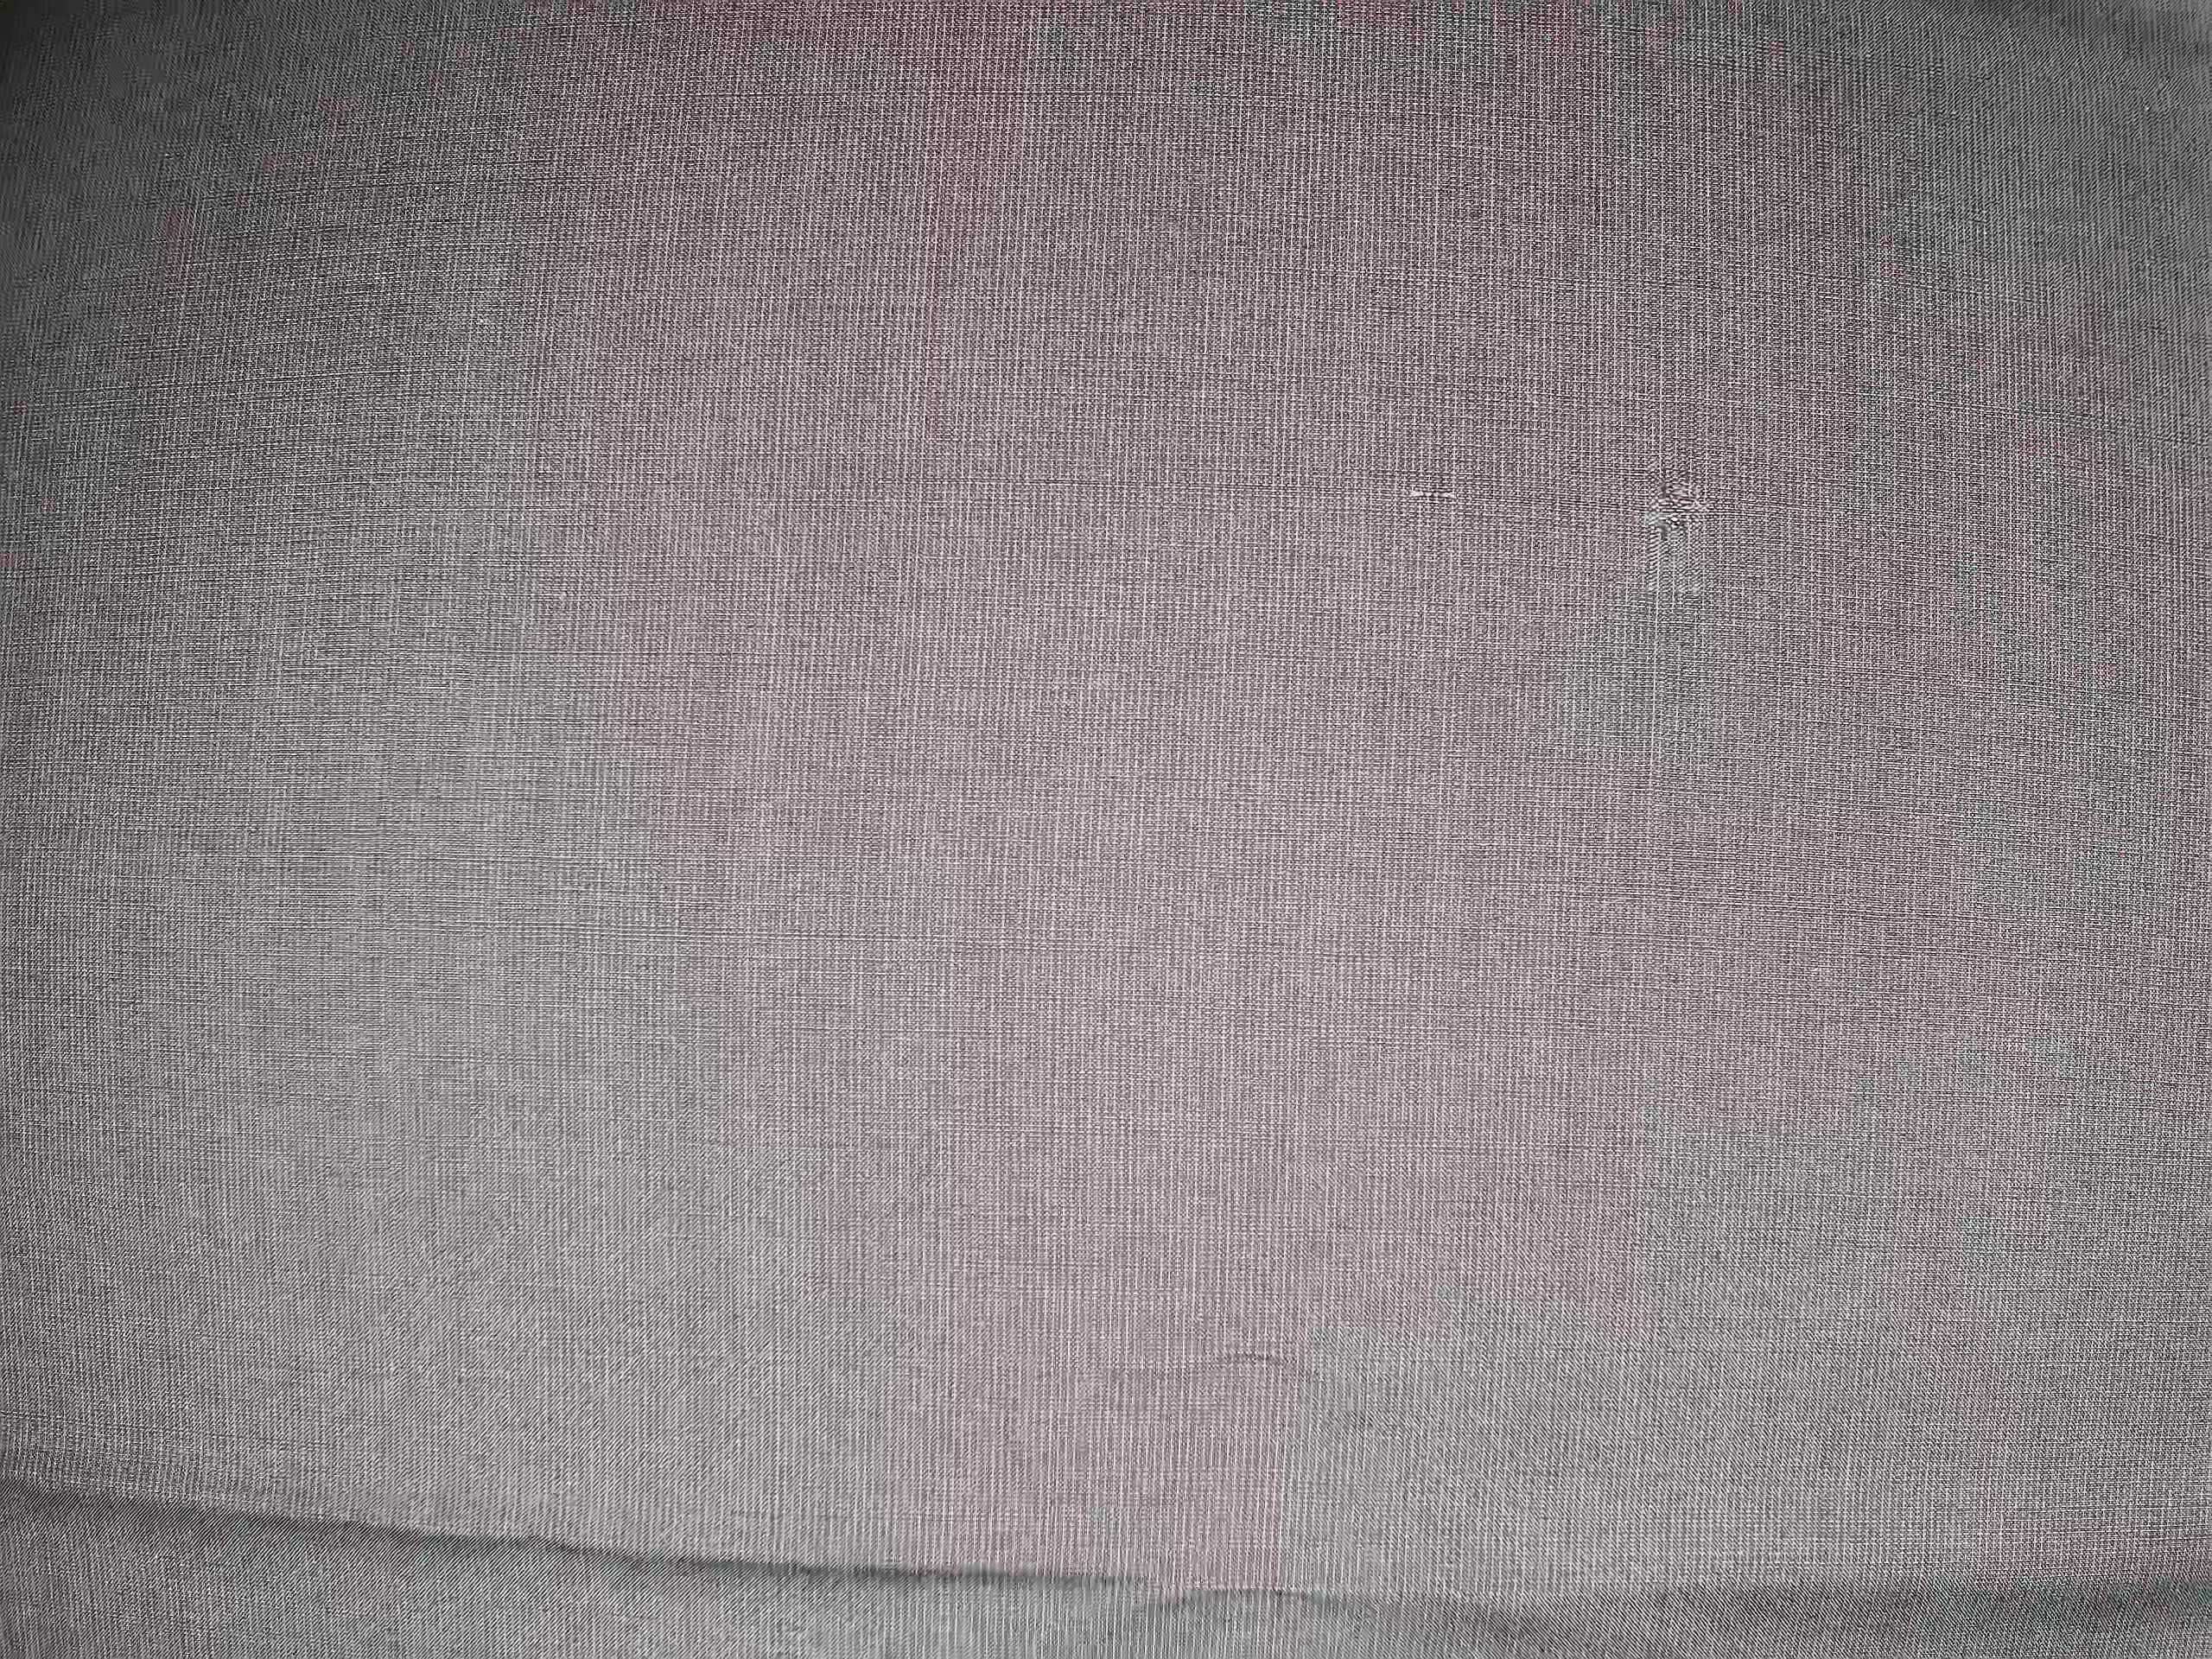jumps: (1400, 479, 1463, 516)
knots: (1637, 450, 1716, 556)
